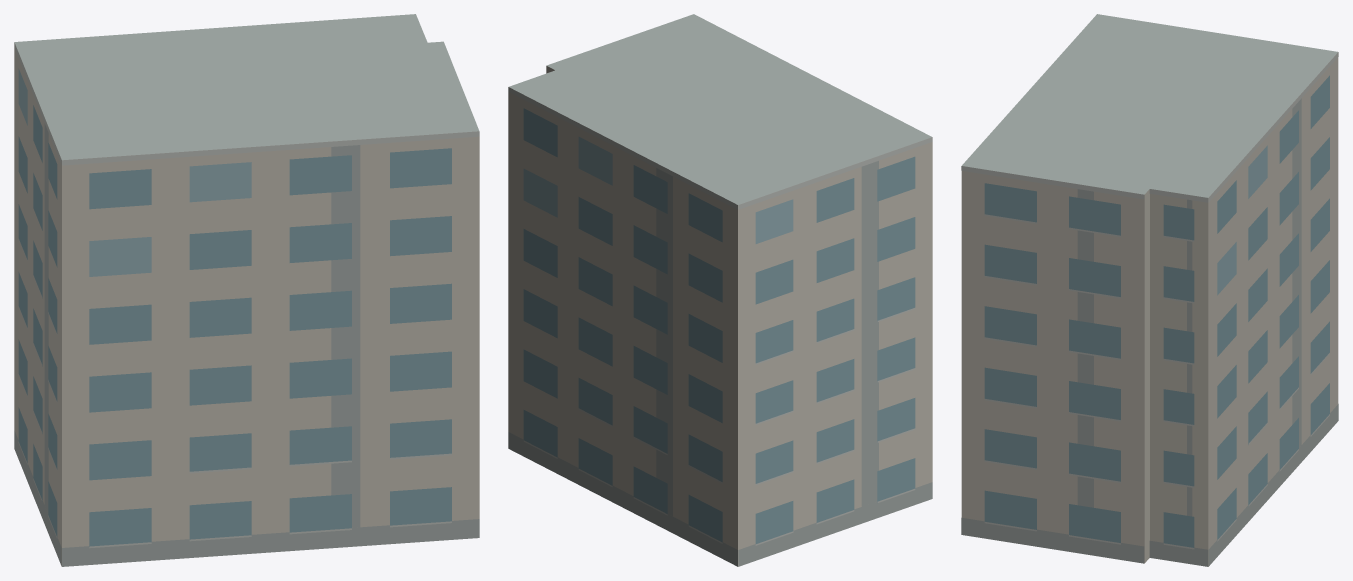
Rendered from survey-upis-32879704.glb.
3 renders of one model, left to right at view 1: azimuth 30°, elevation 25°; view 2: azimuth 150°, elevation 25°; view 3: azimuth 270°, elevation 25°, orthographic. The views are drawn at different scales.
Visible parts, largest first — view 1: survey-upis-32879704.tmp; view 2: survey-upis-32879704.tmp; view 3: survey-upis-32879704.tmp.
Boxes of the visible parts, x1=… form: survey-upis-32879704.tmp: x1=14, y1=14, x2=479, y2=566; survey-upis-32879704.tmp: x1=508, y1=14, x2=932, y2=566; survey-upis-32879704.tmp: x1=961, y1=14, x2=1338, y2=566.
Bounding box in the file's own units: 19.57 × 18.3 × 16.95.
